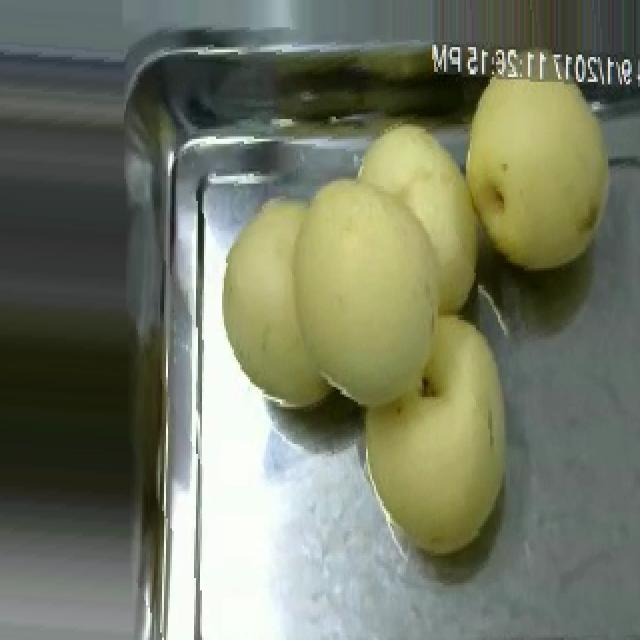Fruit: (206, 156, 518, 427), (350, 298, 524, 566), (446, 77, 628, 288)
